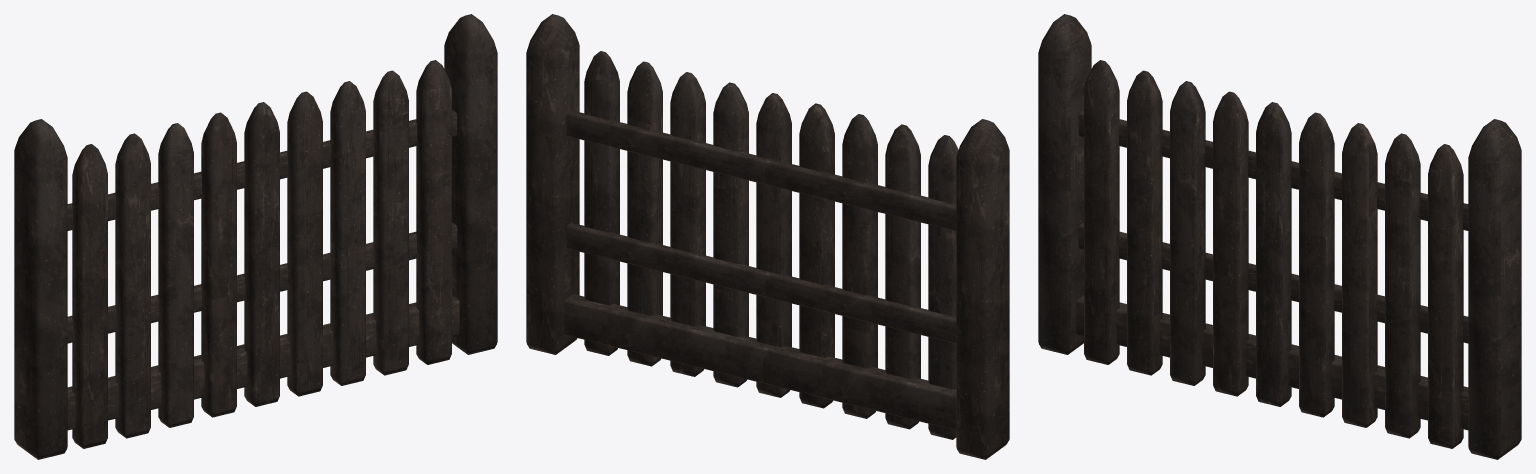
The model's file is Mini-Fence1.fbx.
3 renders of one model, left to right at view 1: azimuth 30°, elevation 25°; view 2: azimuth 150°, elevation 25°; view 3: azimuth 330°, elevation 25°, orthographic.
Visible parts, largest first — view 1: Mini-Fence1; view 2: Mini-Fence1; view 3: Mini-Fence1.
Part boxes in pixels (<box>): Mini-Fence1: <box>14,14,497,459</box>; Mini-Fence1: <box>526,14,1009,459</box>; Mini-Fence1: <box>1038,14,1521,459</box>.
Size of the model in its own units: 2.15 by 1.46 by 0.2068.
